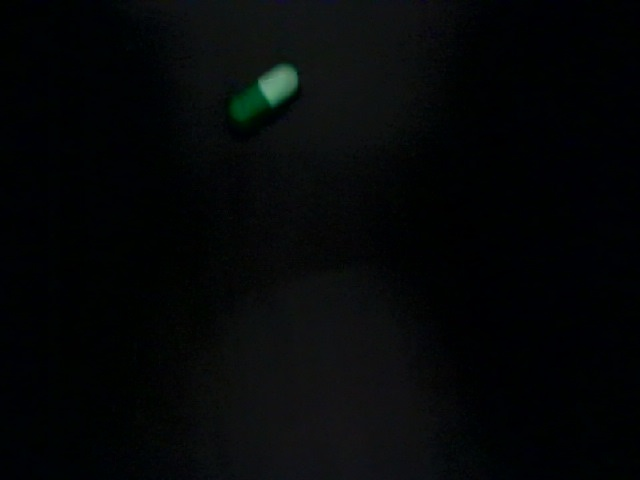YHLJ: (185, 287, 467, 364)
